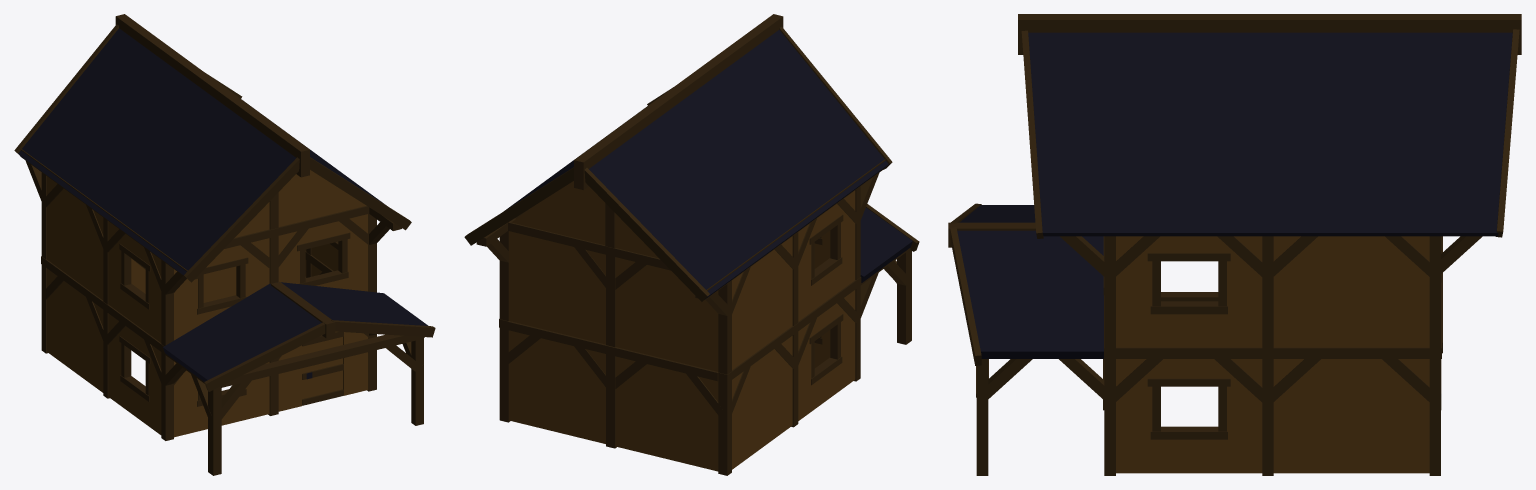
File: Mayor_House.fbx
3 renders of one model, left to right at view 1: azimuth 30°, elevation 25°; view 2: azimuth 150°, elevation 25°; view 3: azimuth 270°, elevation 25°, orthographic. The views are drawn at different scales.
Parts seen in each view (by area): view 1: Cube.118, Cube.069; view 2: Cube.118; view 3: Cube.118.
Boxes of the visible parts, bbox=[...] form: Cube.118: bbox=[14, 14, 435, 475]; Cube.069: bbox=[302, 331, 343, 405]; Cube.118: bbox=[464, 14, 919, 475]; Cube.118: bbox=[948, 14, 1521, 475].
Bounding box in the file's own units: 745 × 891 × 1186.
1 material, 1 textured.
